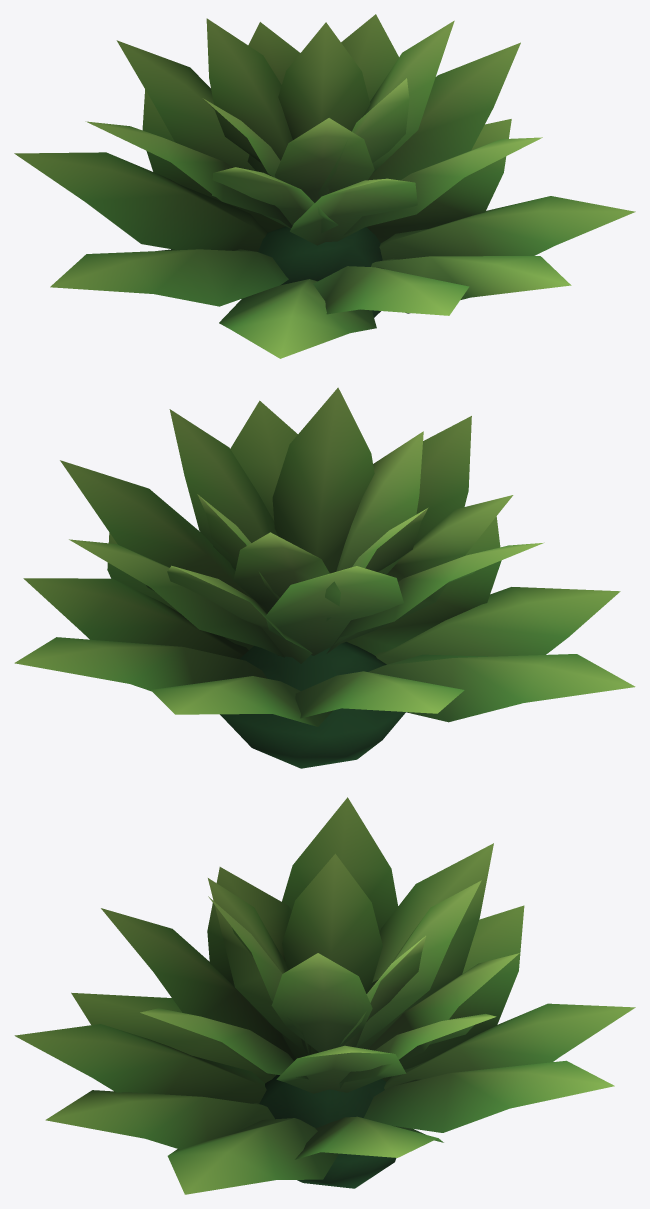
Rendered from deco-bush-v3.glb.
3 views of the same model, one above another, from view 1: azimuth 30°, elevation 25°; view 2: azimuth 150°, elevation 25°; view 3: azimuth 270°, elevation 25° (orthographic). The views are drawn at different scales.
Visible parts, largest first — view 1: 0_bush; view 2: 0_bush; view 3: 0_bush.
Part boxes in pixels (left/top/right/bottom): 0_bush: left=14, top=14, right=635, bottom=358; 0_bush: left=14, top=387, right=635, bottom=768; 0_bush: left=14, top=797, right=635, bottom=1194.
Size of the model in its own units: 2.06 by 1.04 by 1.99.
